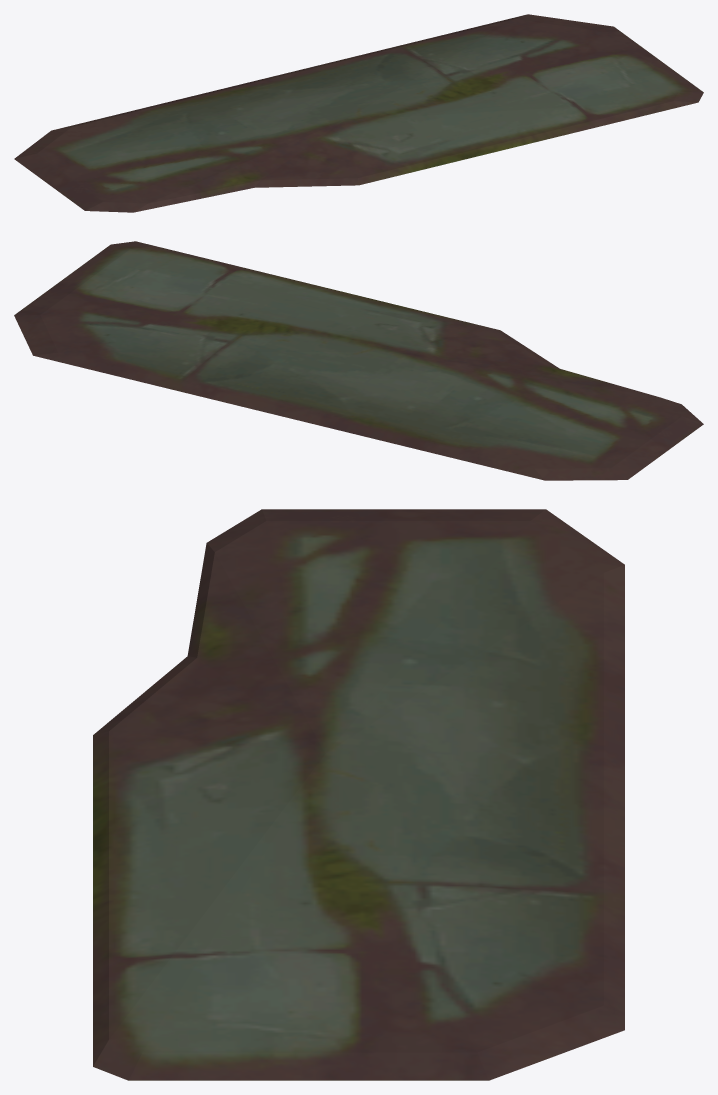
File: yw_shanlin_brick_002.FBX
3 views of the same model, one above another, from view 1: azimuth 30°, elevation 25°; view 2: azimuth 150°, elevation 25°; view 3: azimuth 270°, elevation 25° (orthographic). The views are drawn at different scales.
Parts seen in each view (by area): view 1: yw_shanlin_brick_002; view 2: yw_shanlin_brick_002; view 3: yw_shanlin_brick_002.
Boxes of the visible parts, left/top/right/bottom form: yw_shanlin_brick_002: left=14, top=14, right=703, bottom=212; yw_shanlin_brick_002: left=14, top=241, right=703, bottom=480; yw_shanlin_brick_002: left=93, top=509, right=624, bottom=1080.
Size of the model in its own units: 154 by 60.58 by 2.99.
